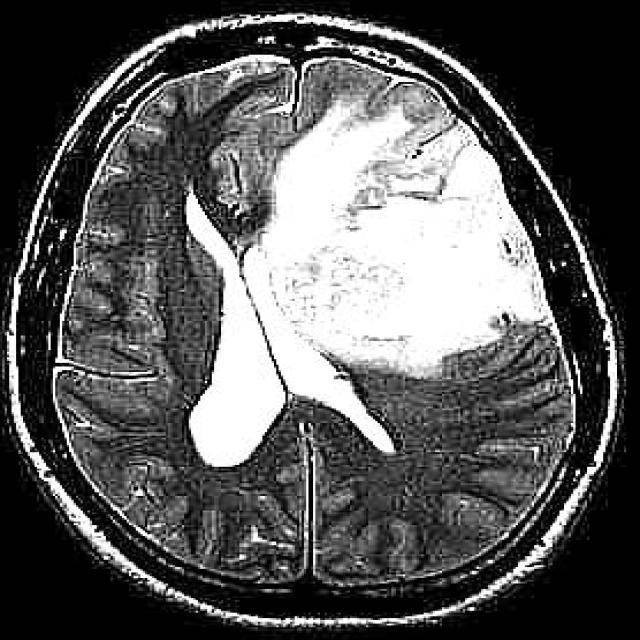Tumor-Cell: (258, 128, 548, 374)
